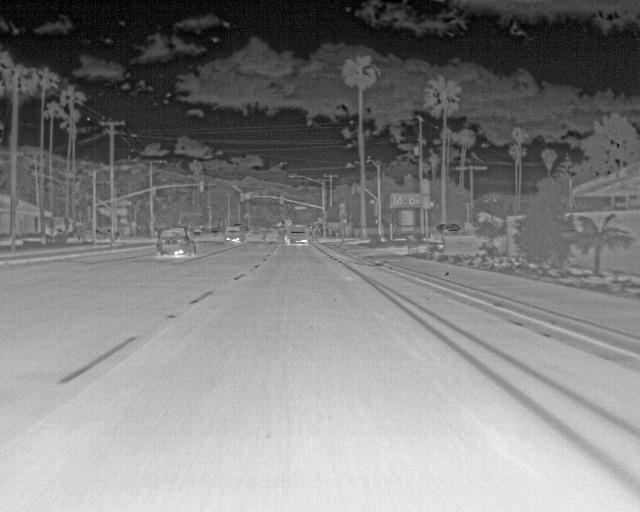car: (156, 225, 196, 259), (283, 223, 307, 246), (435, 224, 463, 242), (223, 223, 246, 242)
